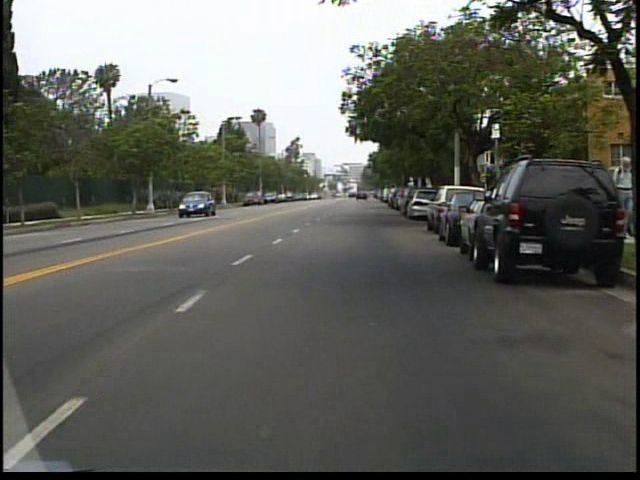person: (606, 154, 632, 242)
